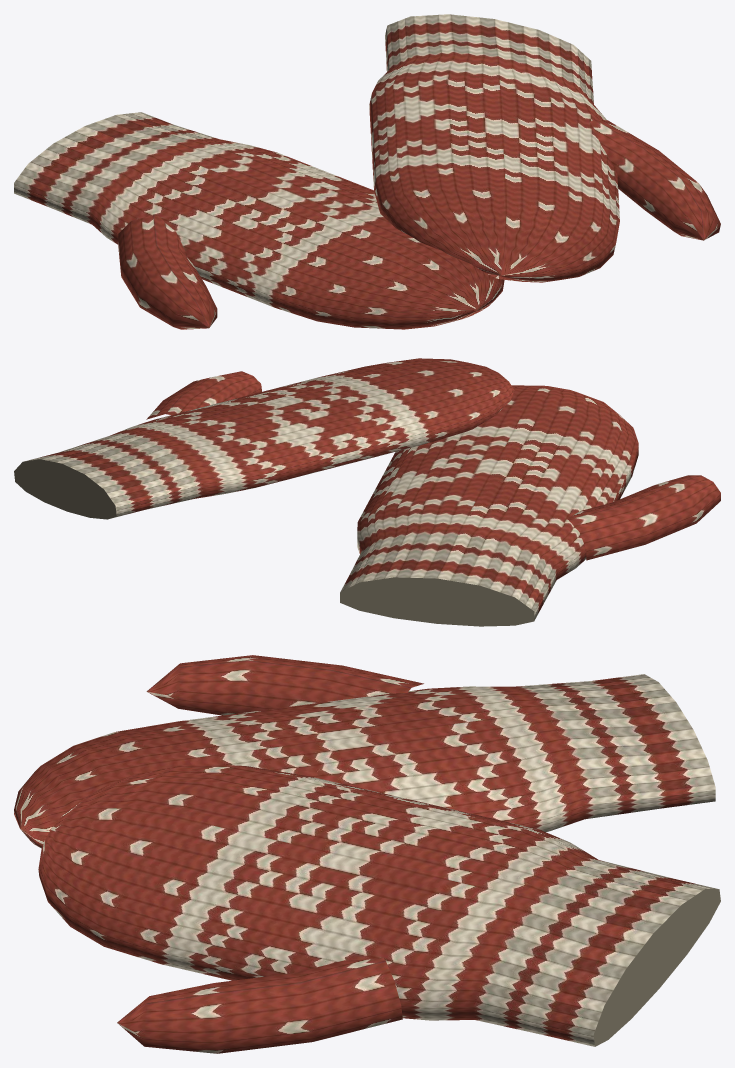
Rendered from mittens.glb.
The picture shows the model from 3 angles, top to bottom: view 1: azimuth 30°, elevation 25°; view 2: azimuth 150°, elevation 25°; view 3: azimuth 270°, elevation 25°; orthographic projection. The views are drawn at different scales.
Visible parts, largest first — view 1: mittens_pair; view 2: mittens_pair; view 3: mittens_pair.
Part boxes in pixels (x1,y1,x2,y2): mittens_pair: (14, 14, 720, 329); mittens_pair: (14, 358, 720, 626); mittens_pair: (14, 655, 720, 1053).
Size of the model in its own units: 1.64 by 0.2413 by 1.34.
1 material, 1 textured.
